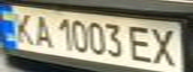0: (66, 17, 90, 53), (87, 19, 106, 56)
1: (51, 15, 72, 52)
3: (103, 20, 127, 60)
A: (30, 11, 54, 48)
E: (124, 22, 157, 64)
K: (6, 9, 39, 46)
X: (145, 25, 184, 69)
